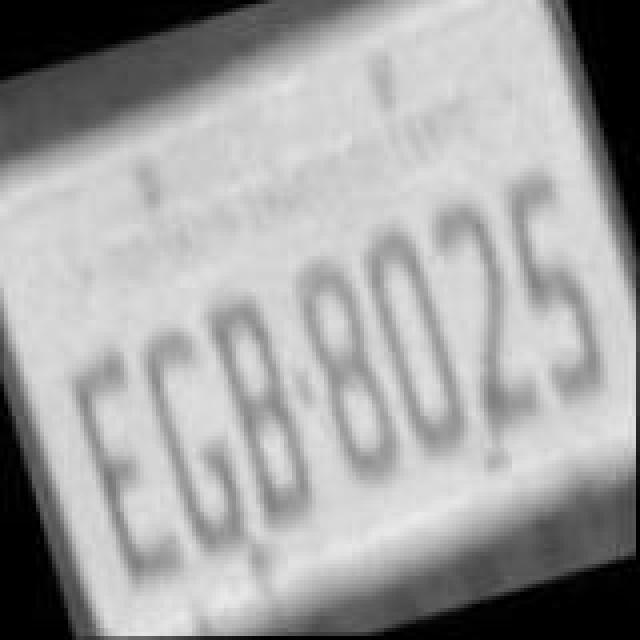2: (420, 184, 552, 448)
5: (486, 154, 614, 410)
8: (282, 240, 406, 488)
B: (200, 280, 324, 532)
E: (62, 334, 194, 594)
G: (128, 308, 260, 568)
O: (352, 216, 476, 464)
